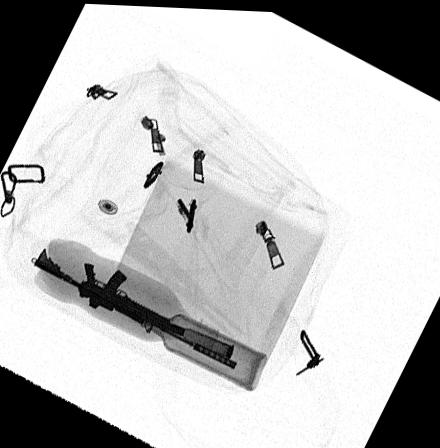Bullet: (155, 318, 232, 357)
Gun: (31, 247, 237, 367)
